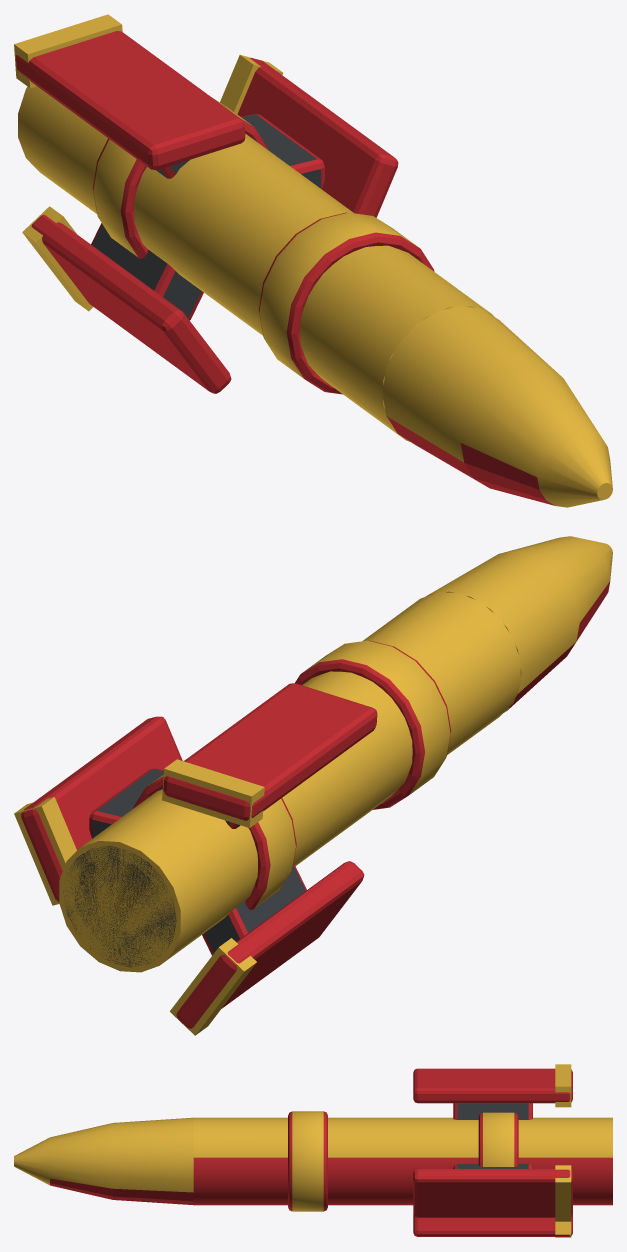
Rendered from dragon_rocket_whelp.fbx.
3 renders of one model, top to bottom at view 1: azimuth 30°, elevation 25°; view 2: azimuth 150°, elevation 25°; view 3: azimuth 270°, elevation 25°, orthographic. The views are drawn at different scales.
Visible parts, largest first — view 1: Mesh_DragonRocket_Whelp; view 2: Mesh_DragonRocket_Whelp; view 3: Mesh_DragonRocket_Whelp.
Part boxes in pixels (x1=…): Mesh_DragonRocket_Whelp: x1=14, y1=14, x2=612, y2=507; Mesh_DragonRocket_Whelp: x1=14, y1=536, x2=612, y2=1035; Mesh_DragonRocket_Whelp: x1=14, y1=1064, x2=612, y2=1237.
Bounding box in the file's own units: 4.25 × 4.42 × 15.
